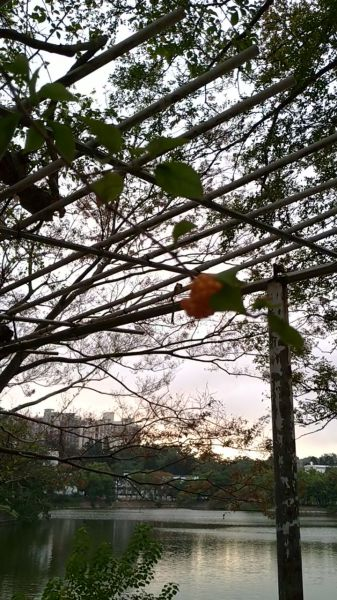eggs: (179, 265, 238, 326)
